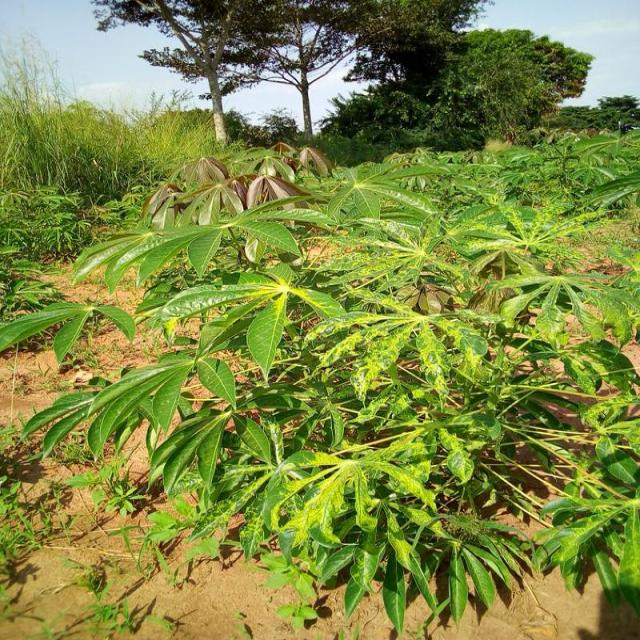cassava leaf: (8, 127, 640, 635)
